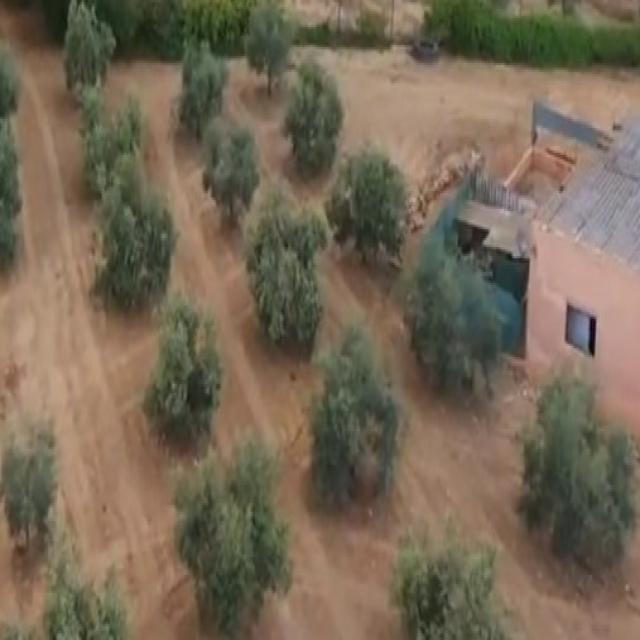trees: (525, 361, 636, 579), (176, 435, 287, 624), (310, 324, 401, 502), (411, 244, 497, 404), (253, 192, 328, 353), (96, 194, 191, 314), (144, 308, 224, 450), (329, 136, 408, 268), (0, 428, 66, 562), (282, 57, 349, 178), (78, 88, 150, 200), (172, 34, 230, 154), (202, 122, 263, 235), (60, 4, 119, 103), (247, 0, 290, 103)
